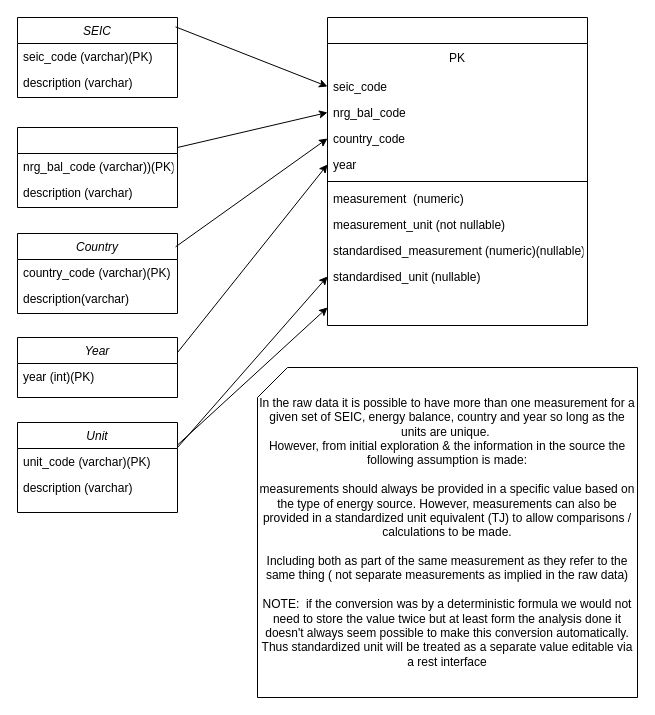
This 655x715 diagram has some shape labels left out. Here are the shapes that lost their labels. From the top down, the box of each, then its label:
(16, 126, 178, 208): Energy Balance
(326, 16, 588, 326): Measurements
